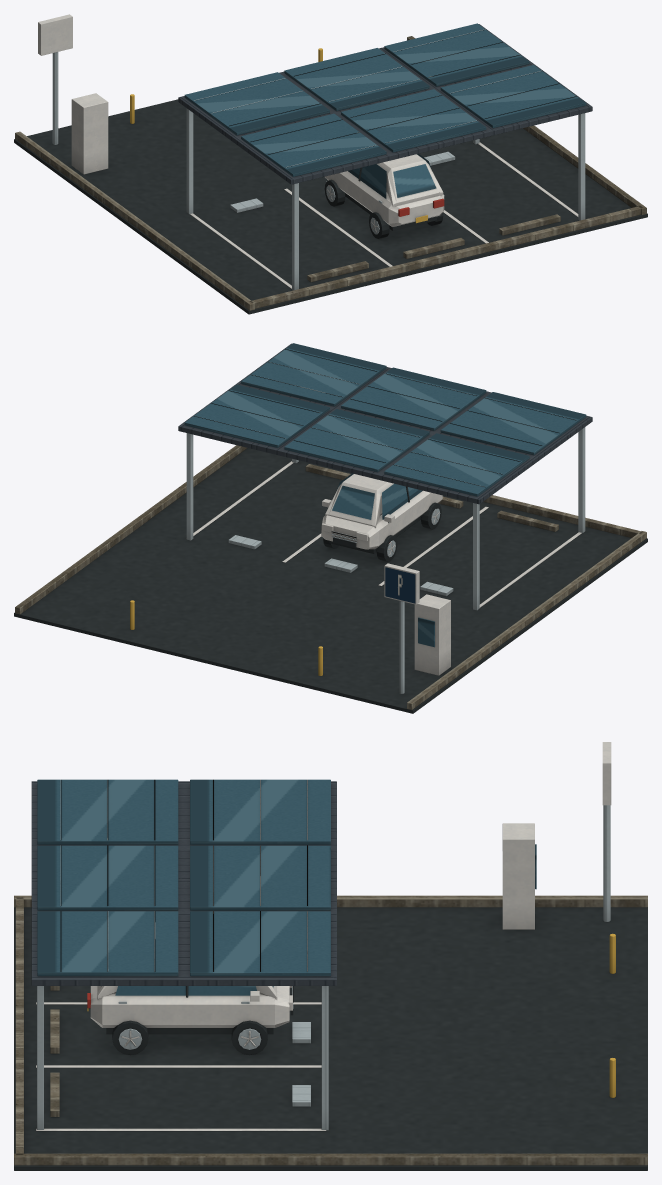
The model's file is parking_002.obj.
3 renders of one model, top to bottom at view 1: azimuth 30°, elevation 25°; view 2: azimuth 150°, elevation 25°; view 3: azimuth 270°, elevation 25°, orthographic. The views are drawn at different scales.
Visible parts, largest first — view 1: parking_002; view 2: parking_002; view 3: parking_002.
Part boxes in pixels (<box>): parking_002: <box>14,14,647,314</box>; parking_002: <box>14,343,647,713</box>; parking_002: <box>14,742,647,1170</box>.
Size of the model in its own units: 10.6 by 3.25 by 10.8.
1 material, 1 textured.
